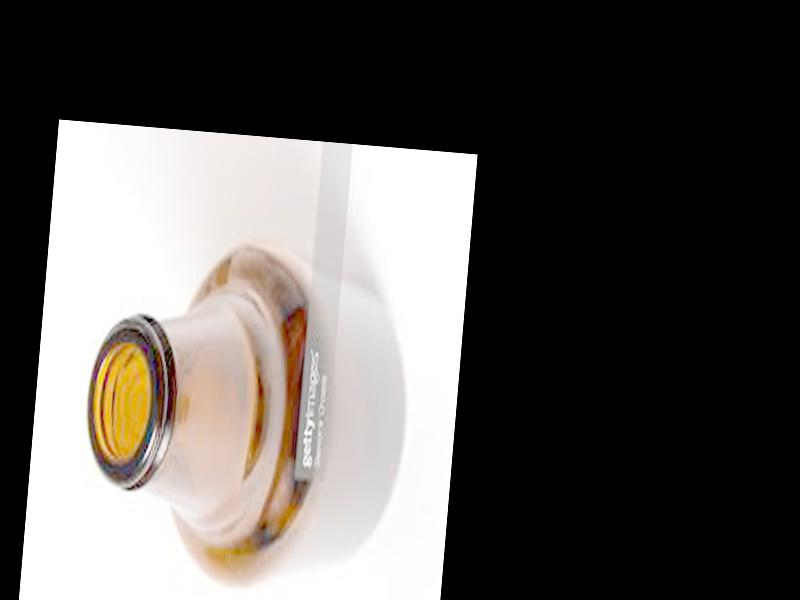Beer: (72, 227, 420, 598)
